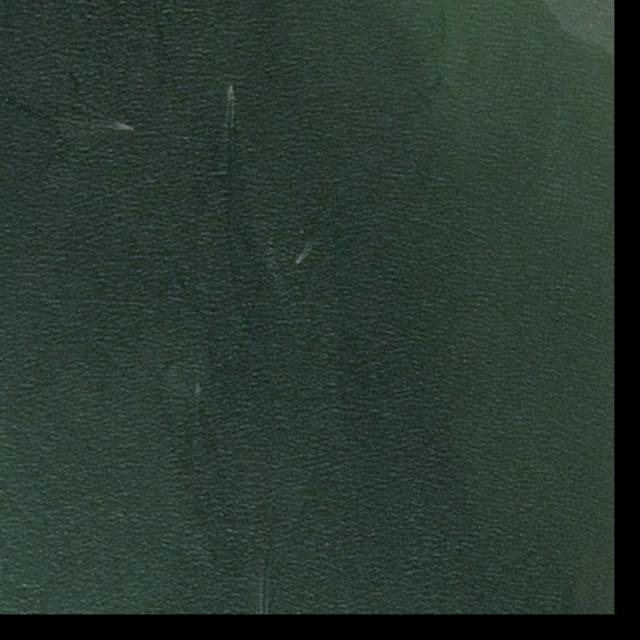ship: (297, 259, 303, 266), (230, 82, 235, 87), (129, 126, 135, 130)
